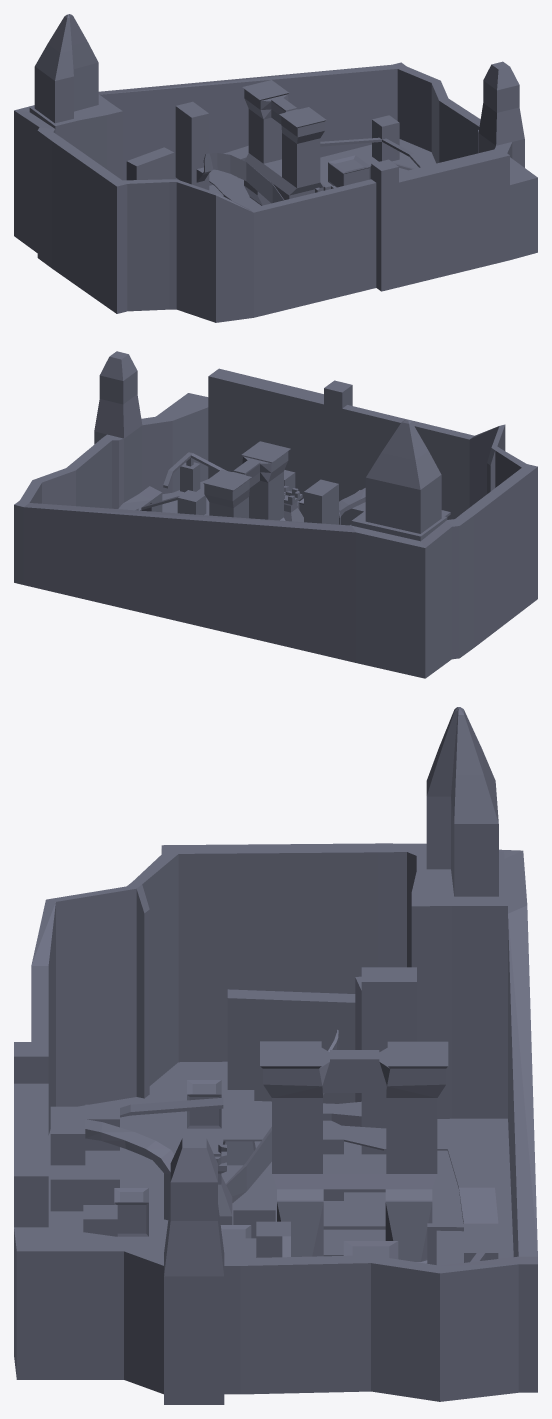
File: map.fbx
3 renders of one model, top to bottom at view 1: azimuth 30°, elevation 25°; view 2: azimuth 150°, elevation 25°; view 3: azimuth 270°, elevation 25°, orthographic. The views are drawn at different scales.
Parts seen in each view (by area): view 1: sgaos_merge_simple; view 2: sgaos_merge_simple; view 3: sgaos_merge_simple.
Boxes of the visible parts, bbox=[...] form: sgaos_merge_simple: bbox=[14, 14, 537, 322]; sgaos_merge_simple: bbox=[14, 351, 537, 678]; sgaos_merge_simple: bbox=[14, 707, 537, 1404].
Bounding box in the file's own units: 30028 × 15815 × 19380.
